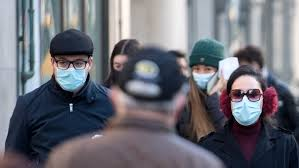FaceMask: (232, 95, 261, 125), (55, 67, 86, 90)
